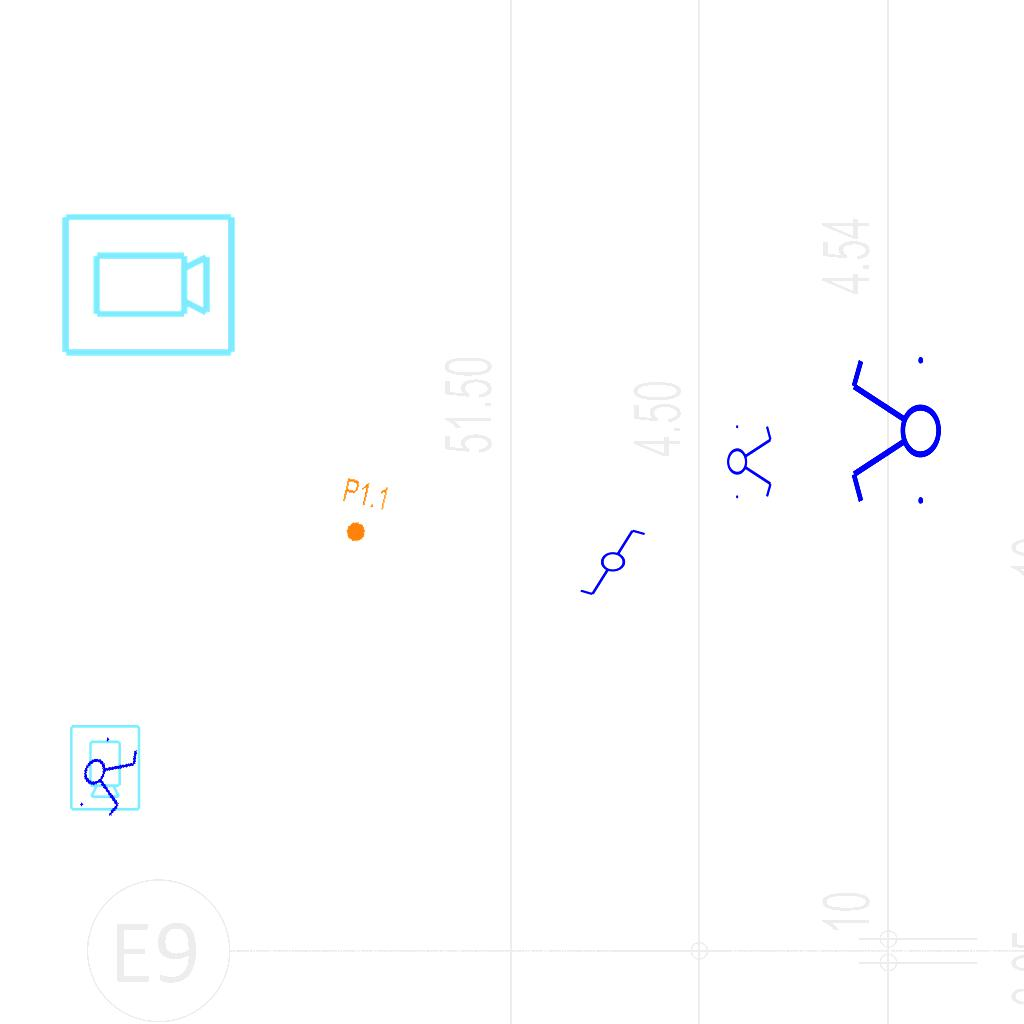Downlight_LED_Einbauleuchten_Flur: (332, 475, 392, 549)
KFO_Kamera_mit_Festobjektiv: (57, 209, 239, 363), (66, 722, 143, 813)
Serienschalter: (847, 348, 943, 516), (69, 728, 145, 824), (726, 419, 774, 503)
Wechselschalter: (578, 527, 656, 599)
